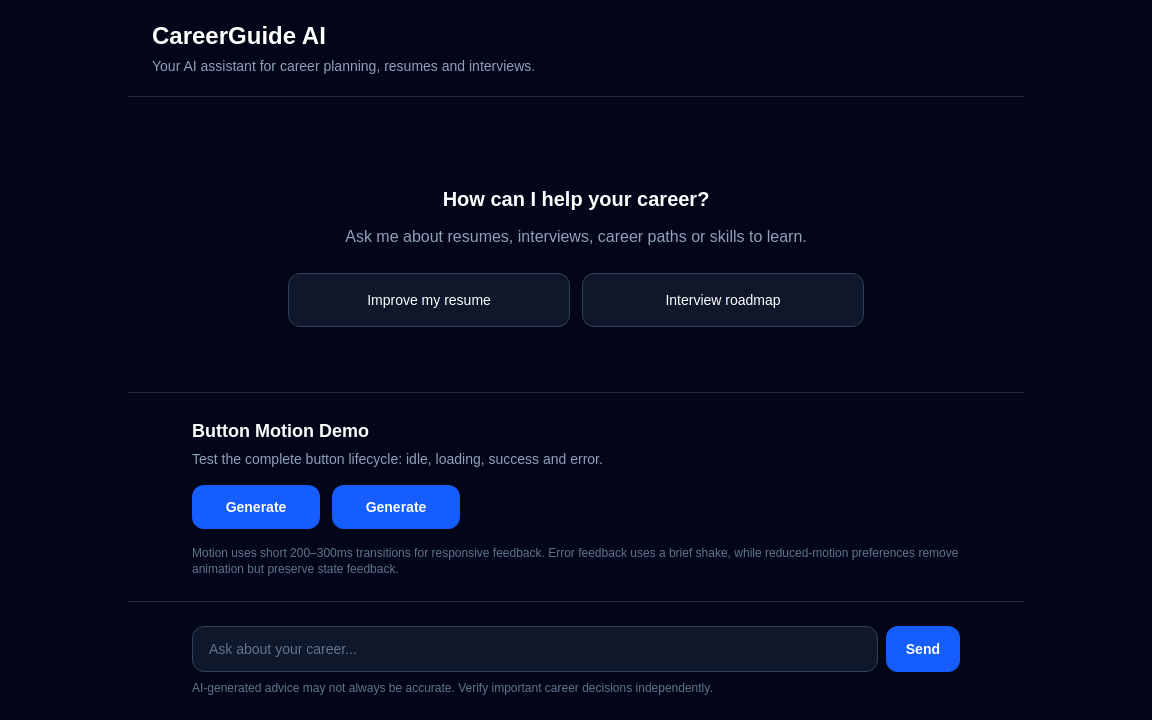
it: CareerGuide chat UI › puts a suggestion into the chat input
This screenshot has width=1152, height=720.
Step 1. Click the button "Improve my resume" → (429,300), box [288, 273, 570, 327]
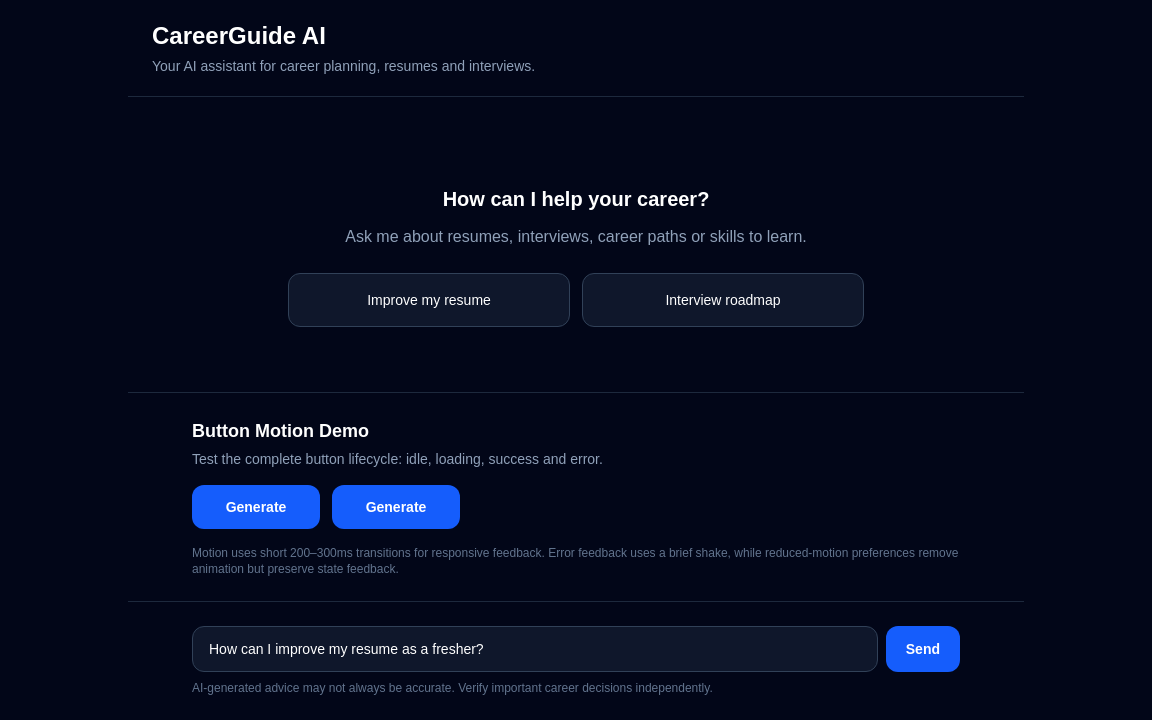
expect the field named "Ask CareerGuide a question" holds "How can I improve my resume as a fresher?": met, box [192, 626, 878, 672]
